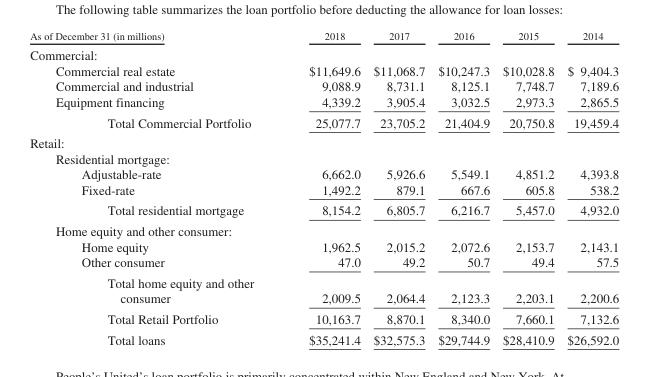table: (29, 29, 618, 346)
table column: (29, 29, 280, 346), (280, 29, 366, 346), (430, 29, 495, 346), (495, 29, 560, 346), (366, 29, 430, 346), (560, 29, 618, 346)
table column header: (29, 29, 618, 44)
table projected row header: (29, 44, 618, 62), (29, 132, 618, 150), (29, 220, 618, 238), (29, 150, 618, 166)
table row: (29, 272, 618, 308), (29, 111, 618, 132), (29, 199, 618, 220), (29, 308, 618, 328), (29, 253, 618, 272), (29, 44, 618, 62), (29, 93, 618, 111), (29, 132, 618, 150), (29, 181, 618, 199), (29, 220, 618, 238), (29, 328, 618, 346), (29, 62, 618, 78), (29, 150, 618, 166), (29, 29, 618, 44), (29, 78, 618, 93), (29, 166, 618, 181), (29, 238, 618, 253)
